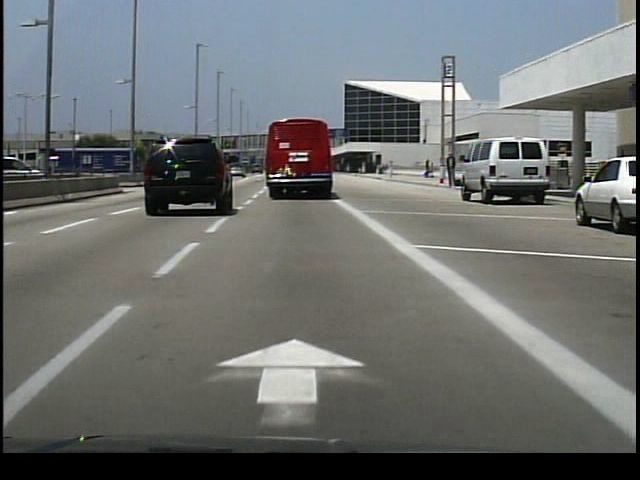person: (444, 152, 458, 192)
